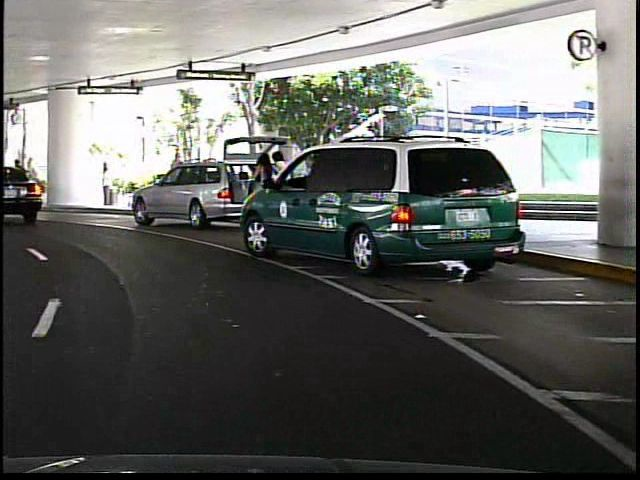person: (250, 149, 271, 227), (165, 148, 184, 204)
